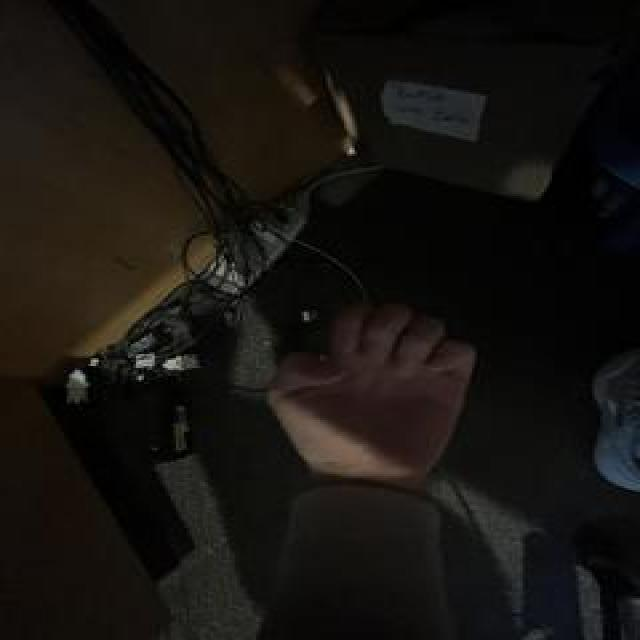E: (261, 298, 480, 504)
